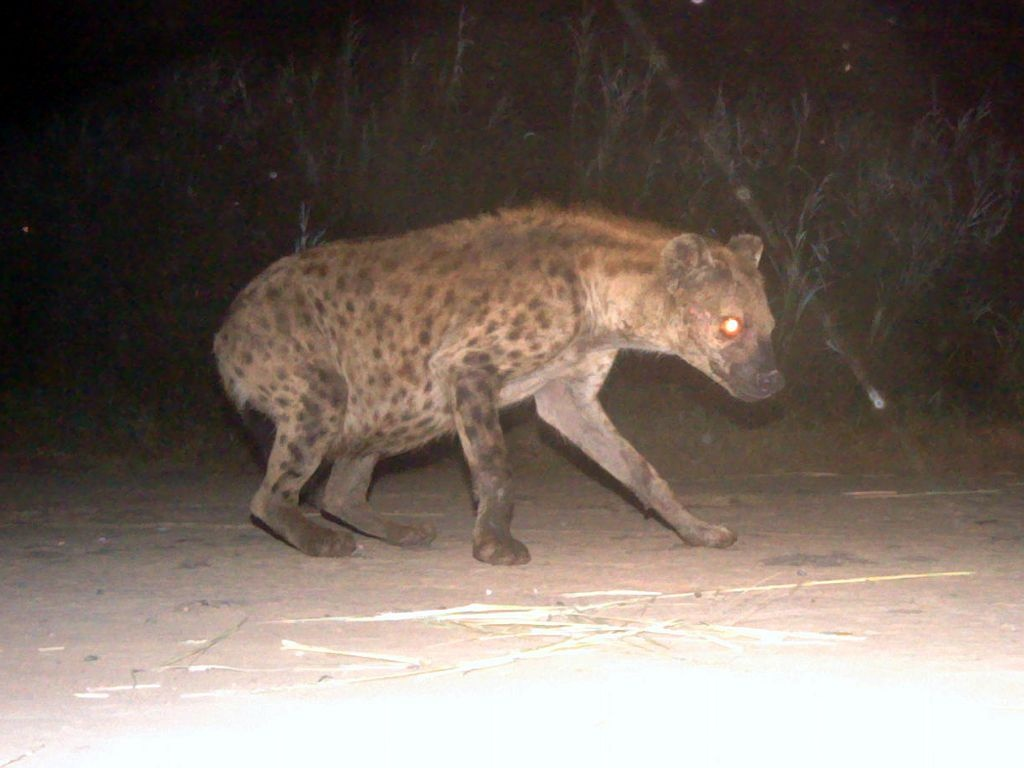hyna: (204, 190, 791, 570)
